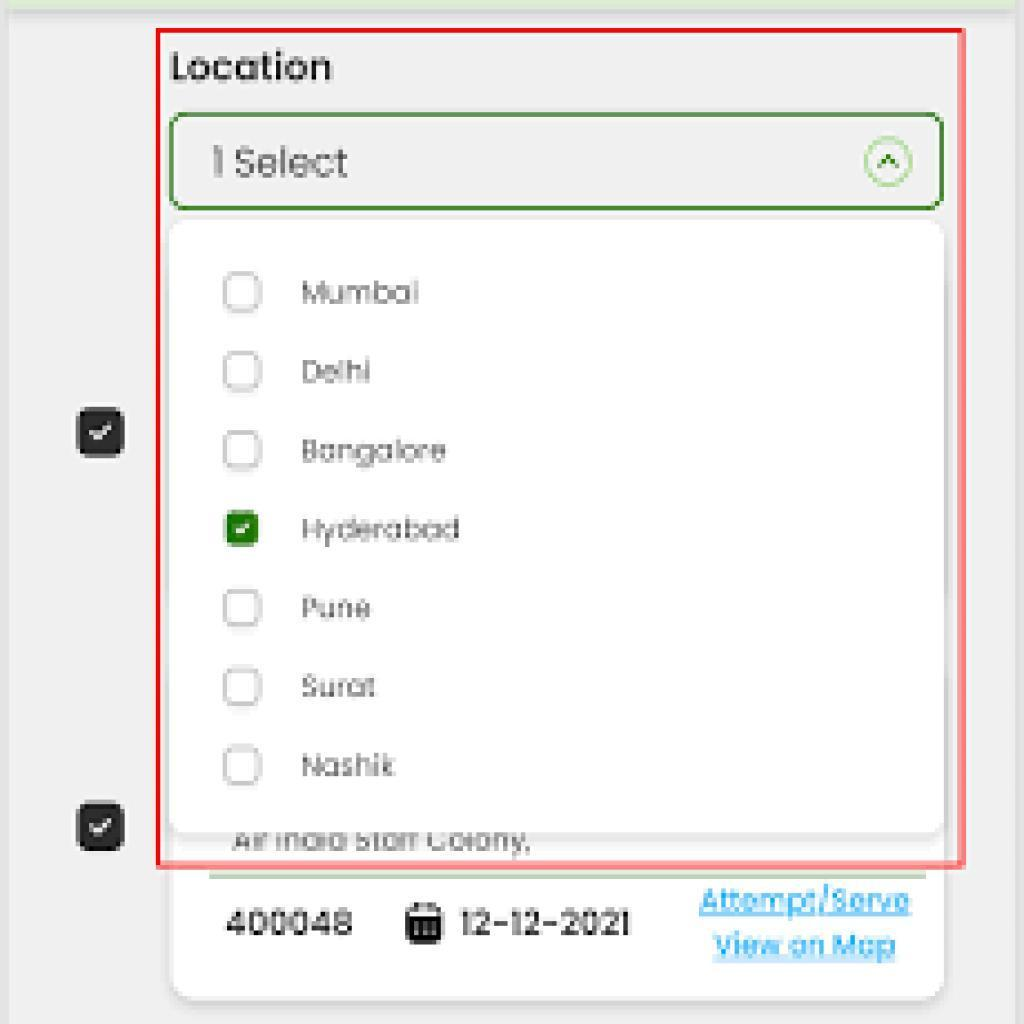checkbox: (77, 801, 128, 854), (77, 408, 126, 460), (223, 272, 264, 315), (223, 430, 266, 471), (224, 747, 266, 788), (223, 590, 266, 630), (223, 667, 263, 705), (226, 353, 264, 393), (225, 510, 260, 549)
dropdown: (169, 113, 946, 213)
label: (301, 430, 449, 470), (301, 514, 465, 548), (172, 51, 335, 85), (301, 278, 423, 306), (304, 750, 397, 782), (298, 591, 377, 627), (304, 672, 382, 703), (303, 359, 377, 388)
